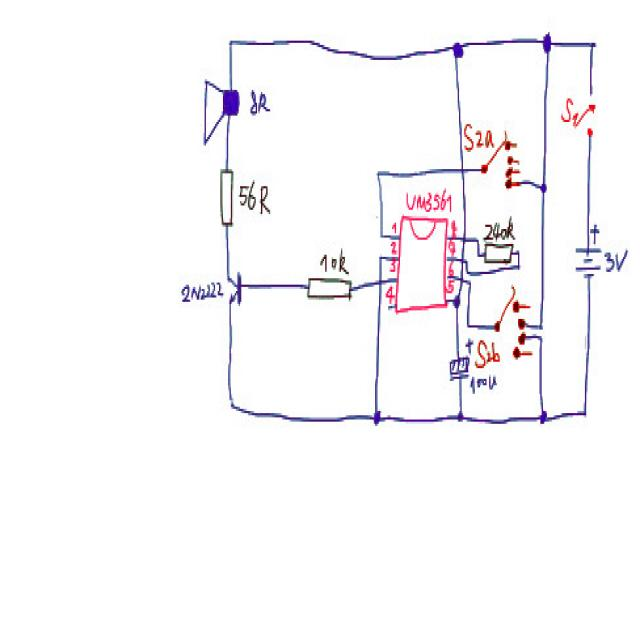capacitor: (443, 332, 472, 387)
crossover: (456, 160, 464, 176), (375, 274, 382, 285), (459, 231, 466, 242), (458, 253, 464, 263), (458, 272, 463, 280)
junction: (538, 28, 552, 53), (448, 36, 463, 58), (584, 32, 596, 54), (368, 404, 381, 424), (224, 392, 236, 411), (536, 404, 547, 424), (224, 32, 235, 49), (578, 398, 586, 415), (455, 406, 463, 422), (451, 291, 459, 306), (372, 165, 380, 178), (538, 178, 546, 190), (536, 319, 543, 330), (463, 317, 472, 325), (375, 251, 382, 261), (376, 227, 383, 237), (462, 255, 468, 265), (514, 244, 519, 255), (536, 332, 542, 340), (514, 259, 519, 268), (463, 265, 468, 274), (474, 248, 478, 257), (474, 233, 478, 242), (466, 276, 470, 285)
resistor: (299, 268, 353, 306), (216, 163, 234, 227), (478, 240, 512, 263)
source: (570, 216, 604, 287)
switch: (490, 278, 532, 360), (479, 126, 519, 197), (569, 84, 594, 139)
text: (176, 272, 224, 304), (402, 186, 452, 212), (238, 176, 272, 214), (470, 336, 500, 366), (462, 120, 493, 148), (316, 246, 348, 272), (480, 214, 511, 240), (247, 84, 270, 115), (602, 244, 627, 272), (467, 370, 496, 392), (558, 94, 576, 122), (447, 216, 459, 238), (383, 282, 393, 304), (446, 257, 455, 276), (445, 278, 455, 294), (388, 238, 396, 255), (386, 255, 394, 272), (390, 216, 398, 233), (446, 238, 455, 252)
transistor: (222, 264, 245, 312)
